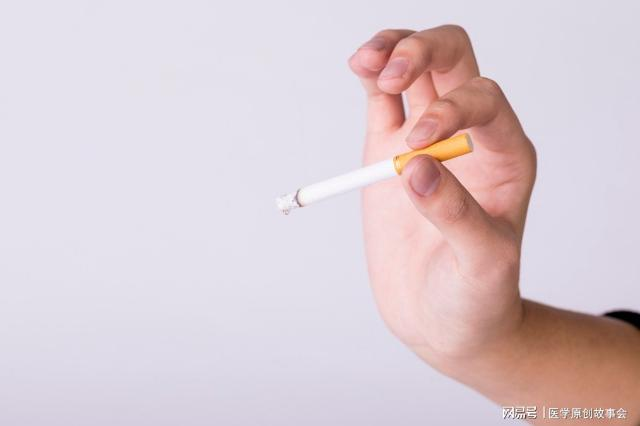Cigarette: (270, 131, 474, 219)
